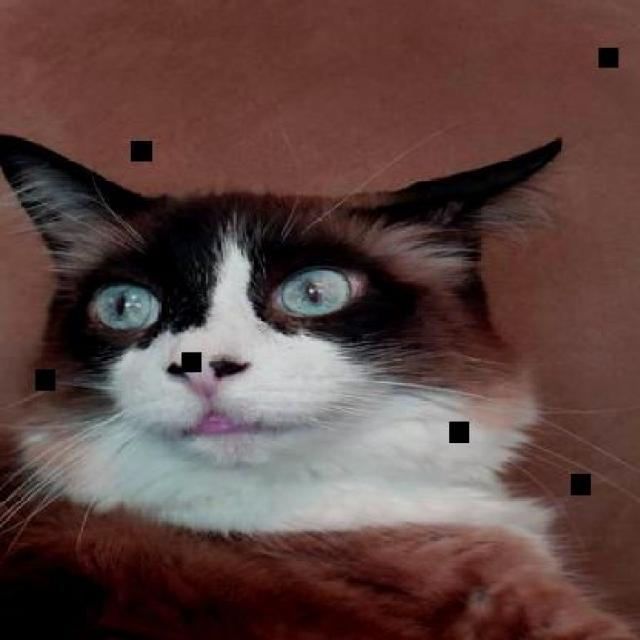cat: (0, 133, 632, 638)
